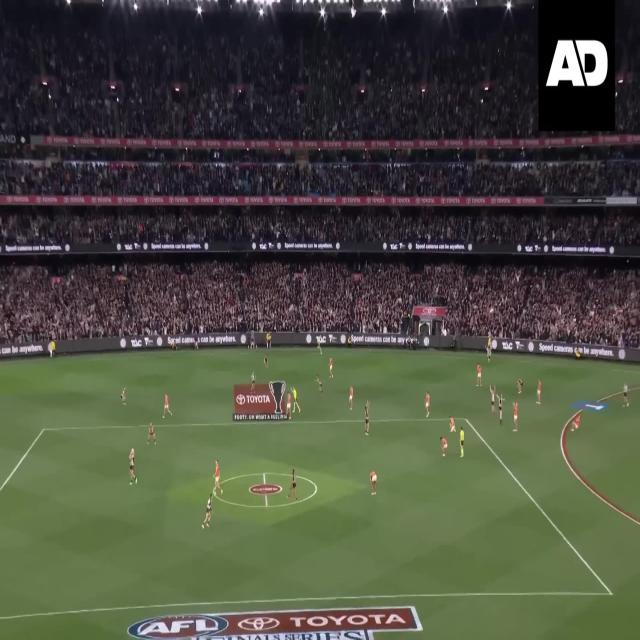crowd: (0, 4, 540, 142), (1, 254, 637, 342), (0, 207, 639, 247), (0, 161, 639, 197), (614, 2, 638, 131)
